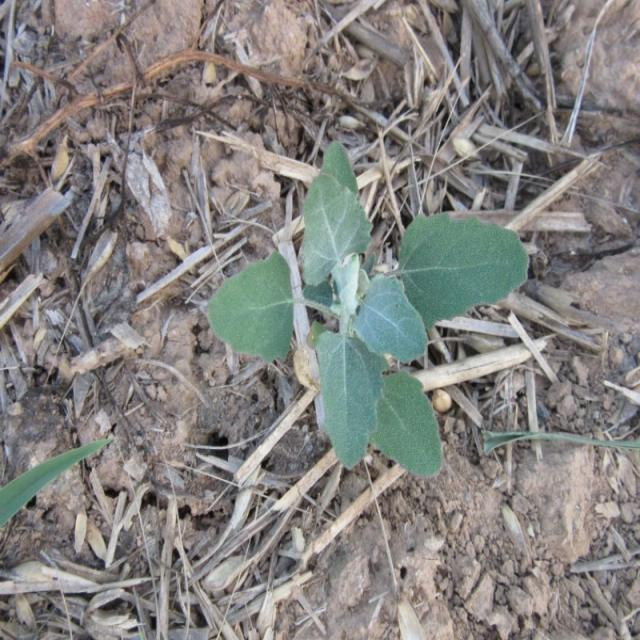ca: (205, 142, 525, 477)
